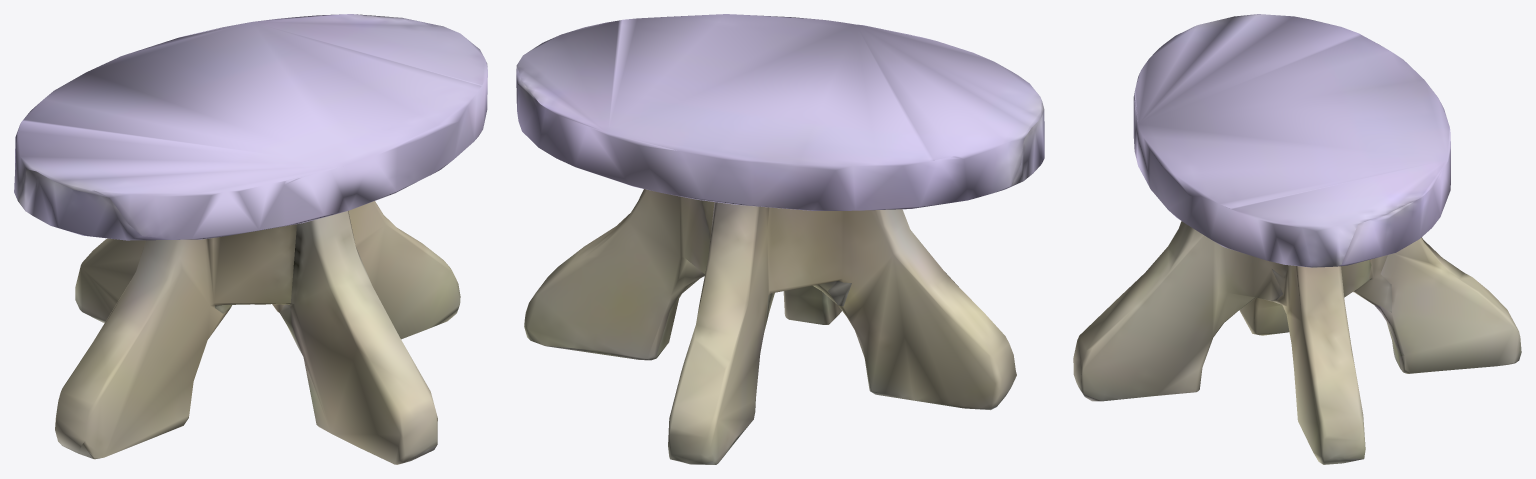
Rendered from 3D_Dollhouse_TablePurple-medium.glb.
The picture shows the model from 3 angles, left to right: view 1: azimuth 30°, elevation 25°; view 2: azimuth 150°, elevation 25°; view 3: azimuth 270°, elevation 25°; orthographic projection. The views are drawn at different scales.
Parts seen in each view (by area): view 1: 3D_Dollhouse_TablePurple; view 2: 3D_Dollhouse_TablePurple; view 3: 3D_Dollhouse_TablePurple.
Part boxes in pixels (<box>): 3D_Dollhouse_TablePurple: <box>14,14,487,464</box>; 3D_Dollhouse_TablePurple: <box>516,14,1044,464</box>; 3D_Dollhouse_TablePurple: <box>1073,14,1521,464</box>.
Size of the model in its own units: 0.098 by 0.0572 by 0.0899.
1 material, 1 textured.
